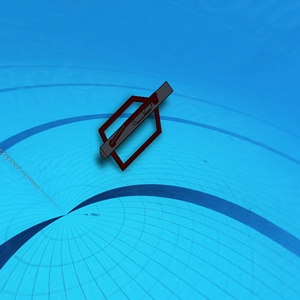submarine: (96, 80, 173, 164)
